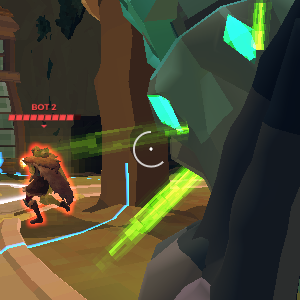model: (16, 141, 72, 227)
